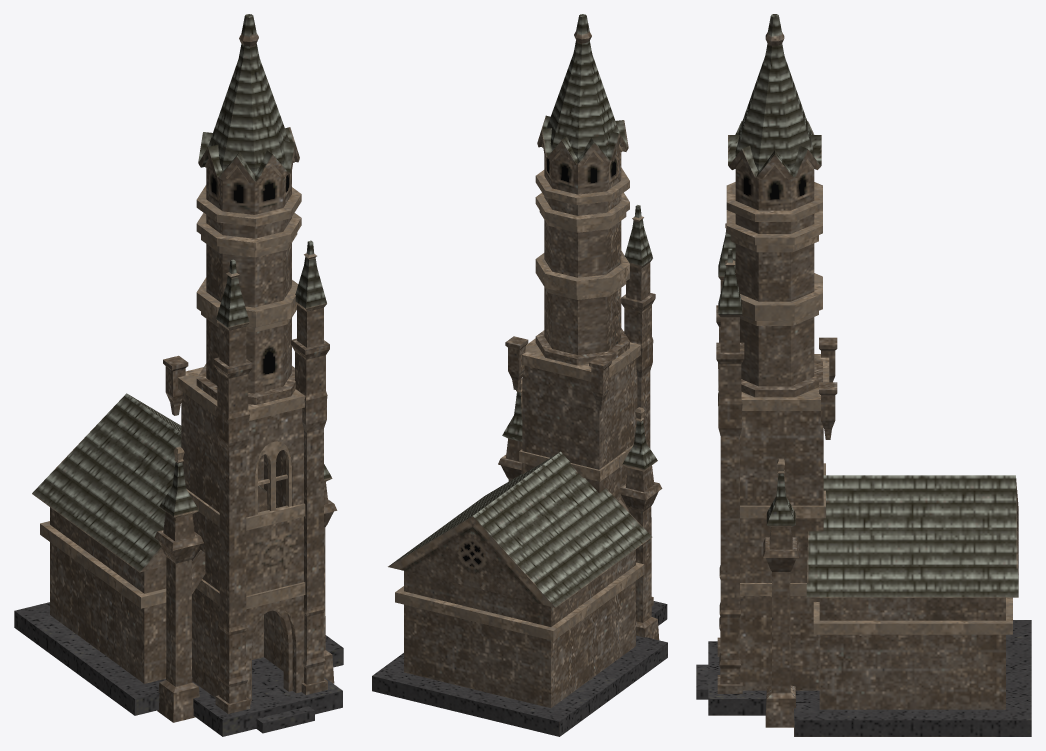
Rendered from BigChurch002.fbx.
3 views of the same model, side by side, from view 1: azimuth 30°, elevation 25°; view 2: azimuth 150°, elevation 25°; view 3: azimuth 270°, elevation 25° (orthographic). The views are drawn at different scales.
Visible parts, largest first — view 1: Cube.023, Cube.021, Cylinder.001, Cube.019, Cube.020, Cube.018, Cube.030, Cube.036, Cube.034, Cylinder.002, Cube.032, Cylinder.006 (+9 smaller); view 2: Cube.019, Cube.020, Cylinder.001, Cube.021, Cube.018, Cube.030, Cube.023, Cube.036, Cylinder.002, Cube.034, Cube.032, Cube.035 (+5 smaller); view 3: Cube.019, Cube.020, Cylinder.001, Cube.021, Cube.018, Cube.023, Cube.030, Cube.036, Cube.034, Cylinder.002, Cylinder.006, Cube.032 (+6 smaller).
Boxes of the visible parts, <box> form: Cube.023: <box>213,240,329,713</box>; Cube.021: <box>181,393,304,704</box>; Cylinder.001: <box>206,14,291,393</box>; Cube.019: <box>32,393,267,572</box>; Cube.020: <box>50,507,166,683</box>; Cube.018: <box>14,602,343,736</box>; Cube.030: <box>154,446,337,722</box>; Cube.036: <box>40,521,166,608</box>; Cube.034: <box>198,127,299,183</box>; Cylinder.002: <box>196,277,298,327</box>; Cube.032: <box>178,367,305,420</box>; Cylinder.006: <box>196,185,301,226</box>; Cube.019: <box>388,451,652,607</box>; Cube.020: <box>404,549,635,707</box>; Cylinder.001: <box>544,14,621,354</box>; Cube.021: <box>522,359,637,509</box>; Cube.018: <box>372,601,667,736</box>; Cube.030: <box>498,378,662,640</box>; Cube.023: <box>621,205,655,605</box>; Cube.036: <box>395,562,644,640</box>; Cylinder.002: <box>535,251,629,295</box>; Cube.034: <box>537,115,628,166</box>; Cube.032: <box>522,331,640,381</box>; Cube.035: <box>505,336,611,410</box>; Cube.019: <box>806,475,1018,597</box>; Cube.020: <box>819,597,1005,709</box>; Cylinder.001: <box>735,14,814,386</box>; Cube.021: <box>739,411,823,690</box>; Cube.018: <box>708,620,1031,736</box>; Cube.023: <box>716,223,744,693</box>; Cube.030: <box>763,458,798,727</box>; Cube.036: <box>813,597,1012,634</box>; Cube.034: <box>728,121,821,179</box>; Cylinder.002: <box>735,273,822,320</box>; Cylinder.006: <box>726,182,822,221</box>; Cube.032: <box>741,354,829,410</box>.
Bounding box in the file's own units: 1386 × 4338 × 1956.
